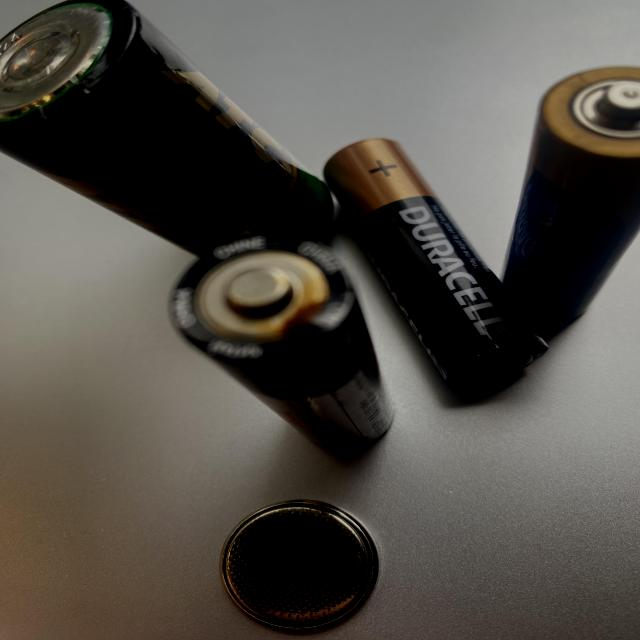AA: (316, 134, 554, 394), (165, 231, 403, 454)
COIN: (218, 498, 382, 636)
